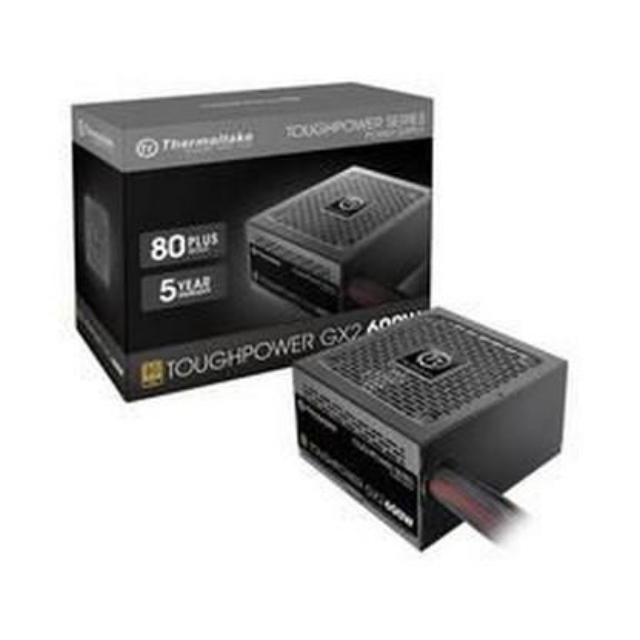PSU: (287, 302, 575, 553)
